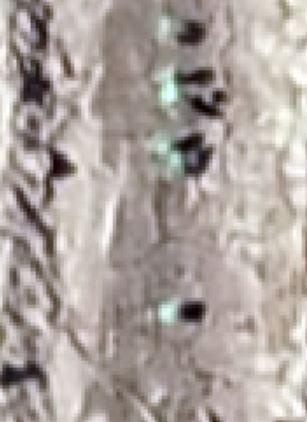cotton: (159, 302, 179, 324), (162, 17, 178, 40), (160, 65, 177, 84), (155, 139, 170, 157), (162, 88, 181, 102), (169, 154, 182, 172)
